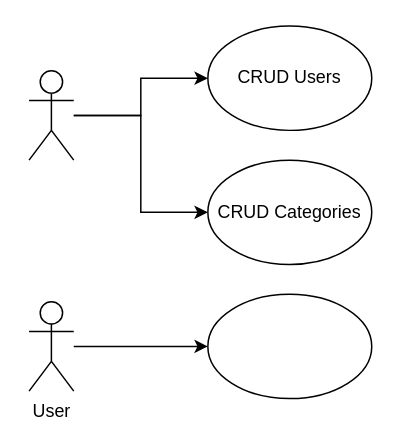
Some shapes in this 398 by 448 pixel diagram are drawn without their labels. Each missing label, with the box of its shape:
Admin: (28, 69, 74, 160)
CRUD Creations: (206, 293, 372, 399)
